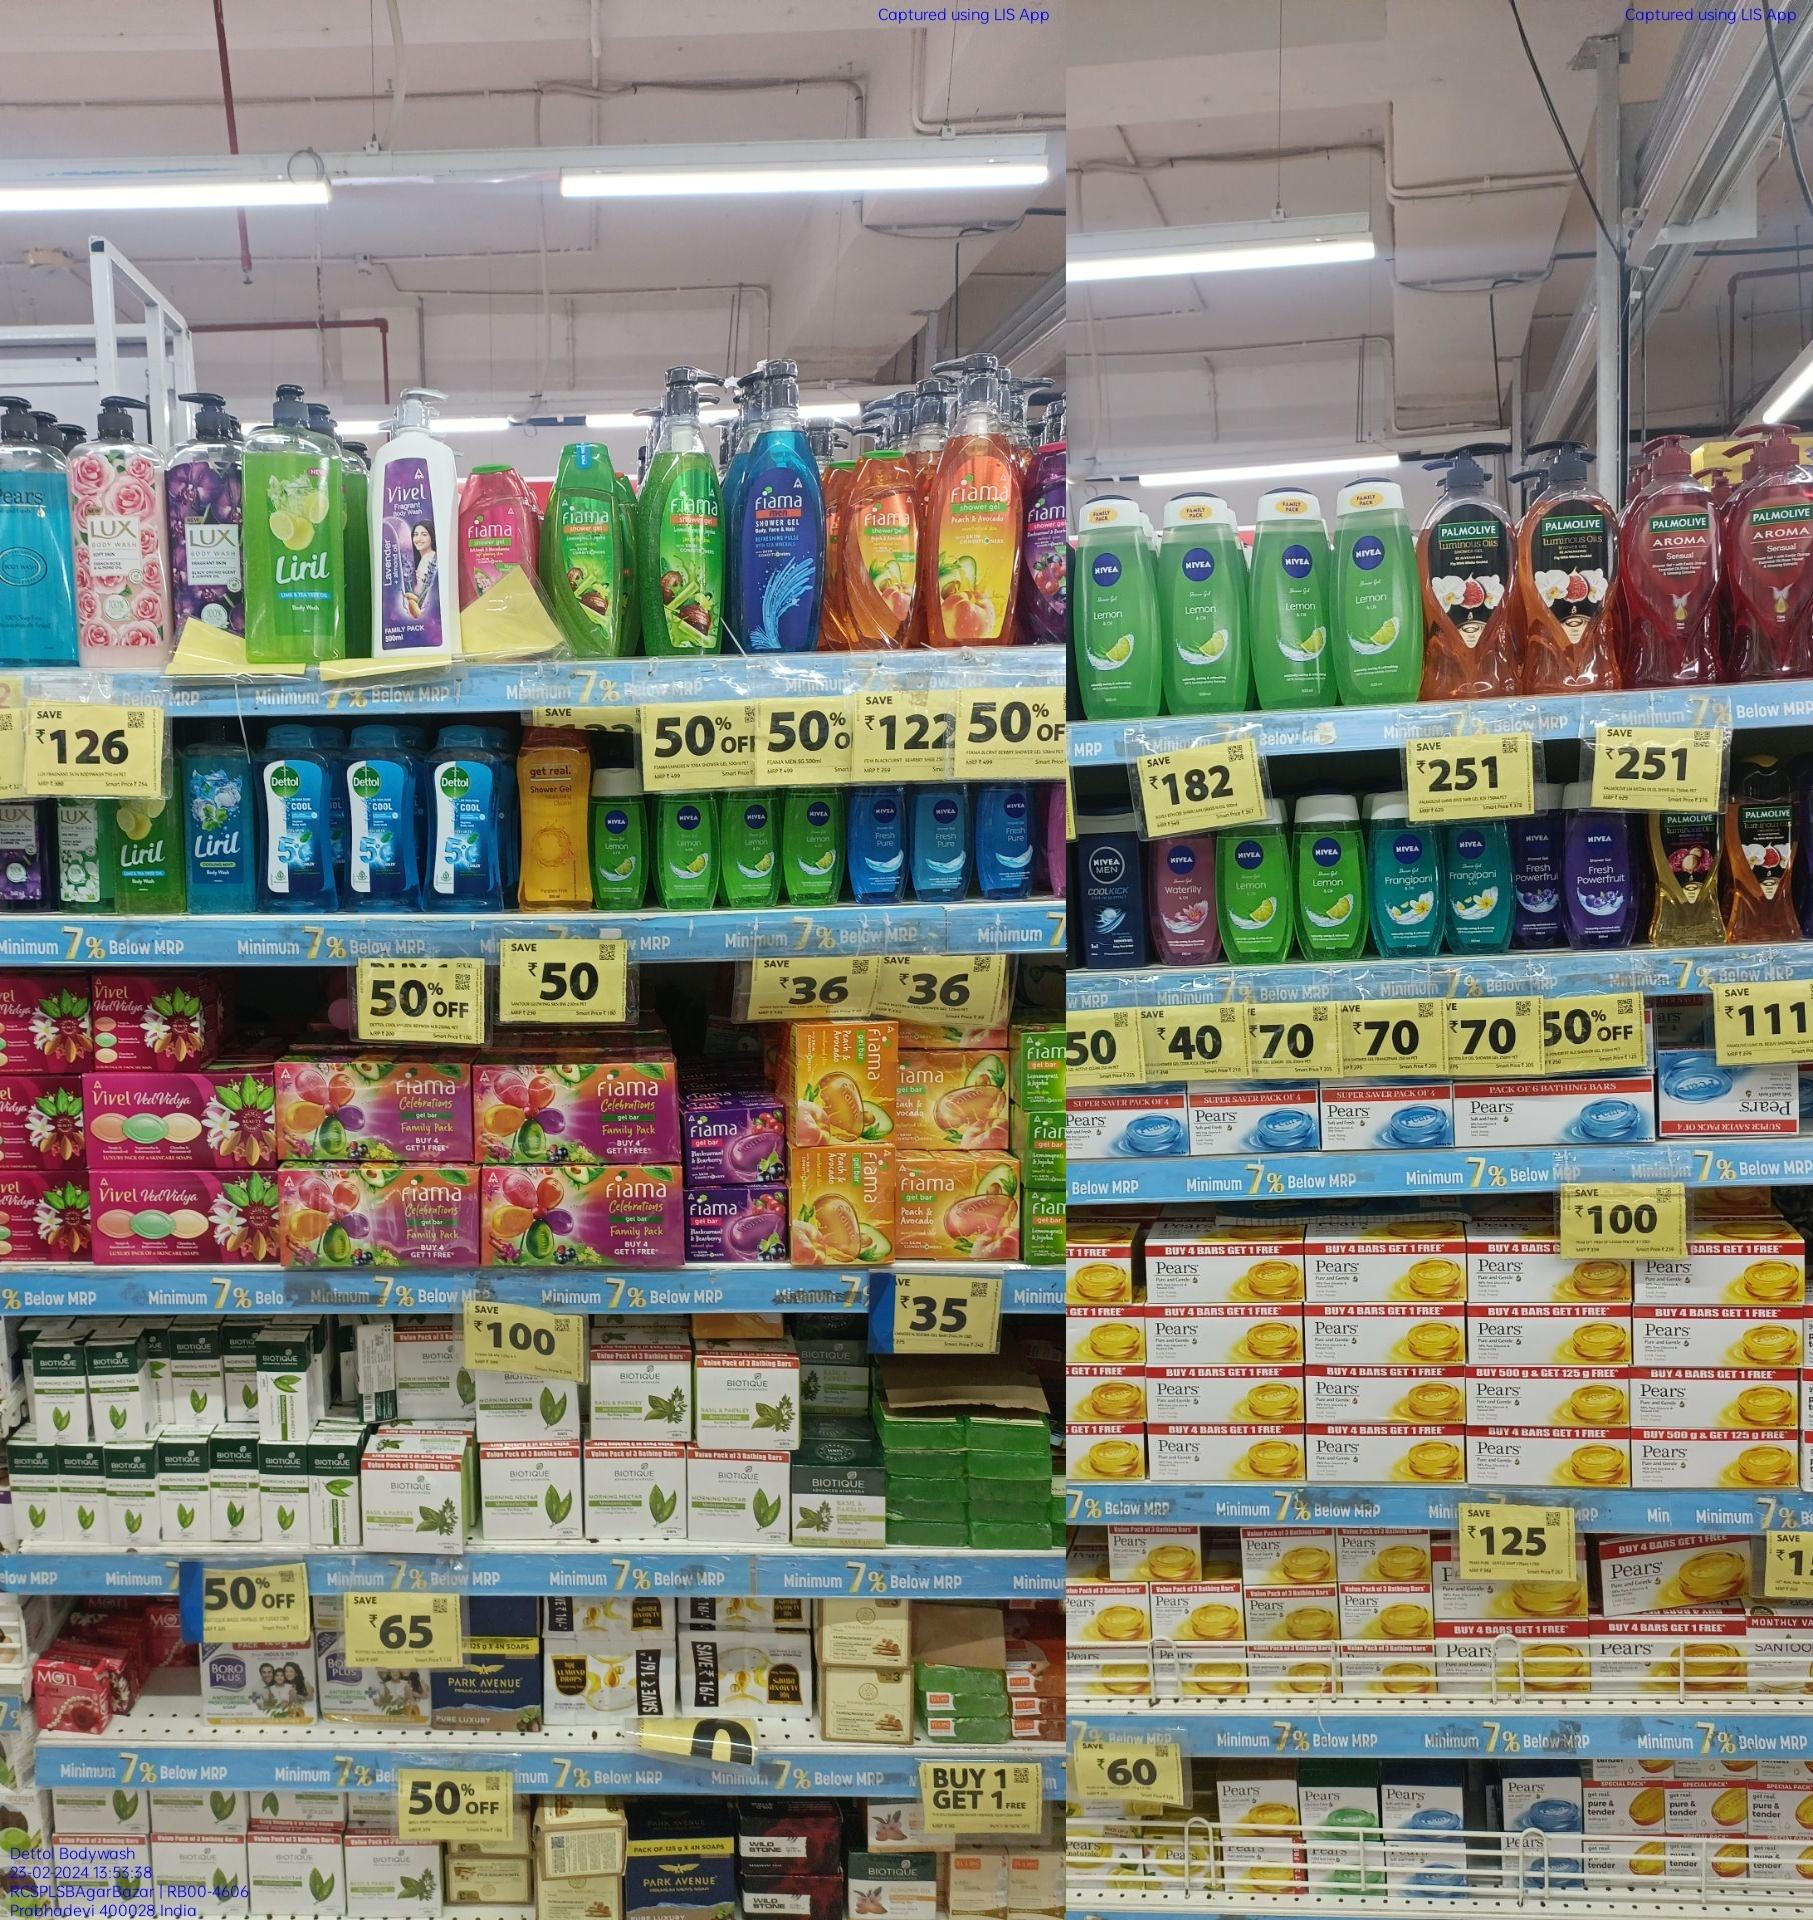Dettol_Bodywash_Cool: (259, 714, 334, 917), (428, 724, 504, 913), (346, 722, 421, 911)
Fiama_Shower_Gel_Lemongrass_and_Jojoba_250ML: (552, 440, 620, 658)
Fiama_Shower_Gel_Peach_and_Avocado_250ML: (854, 453, 925, 647)
Get_Real_Shower_Gel_Moisturising_Glycerin_300ML: (518, 729, 591, 913)
Liril_Cooling_Mint_Body_Wash_250ML: (187, 736, 256, 917)
Nivea_Shower_Gel_Frangipani_and_Oil_250ML: (1368, 802, 1440, 956), (1443, 811, 1513, 954)
Nivea_Shower_Gel_Fresh_Powerfruit_250ML: (1563, 787, 1634, 952)
Nivea_Shower_Gel_Lemon_and_Oil_250ML: (1159, 489, 1246, 717), (1077, 486, 1157, 719), (1332, 470, 1413, 698), (1249, 484, 1329, 707), (1213, 813, 1288, 968), (1293, 792, 1361, 961), (721, 785, 780, 908), (782, 785, 840, 906), (596, 772, 646, 911), (658, 790, 714, 911)
Nivea_Shower_Gel_Waterlily_and_Oil_250ML: (1152, 833, 1217, 966)
Palmolive_Luminous_Oils_Invigorating_Macadamia_Oil_With_Peony_250ML: (1651, 796, 1726, 949)
Palmolive_Luminous_Oils_With_White_Orchid_Shower_Gel_250ML: (1728, 748, 1804, 946)
